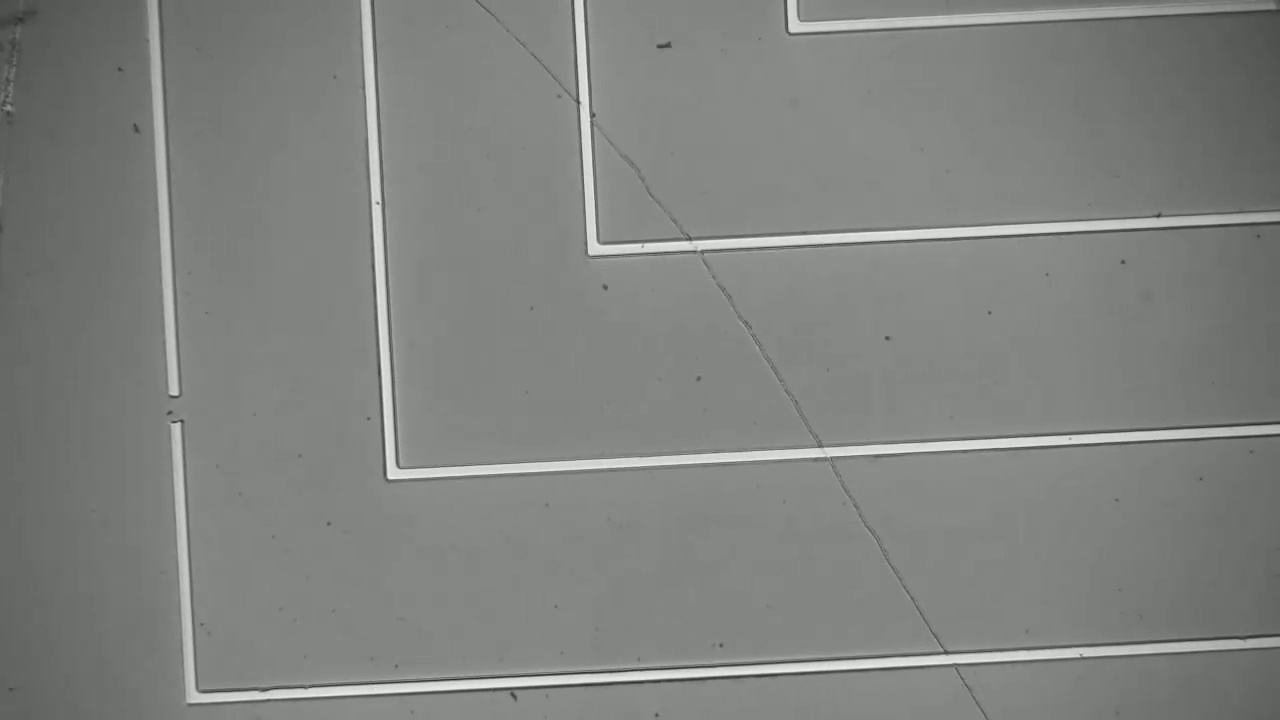open: (151, 372, 203, 439)
scratch: (481, 7, 995, 720), (1, 1, 46, 131)
